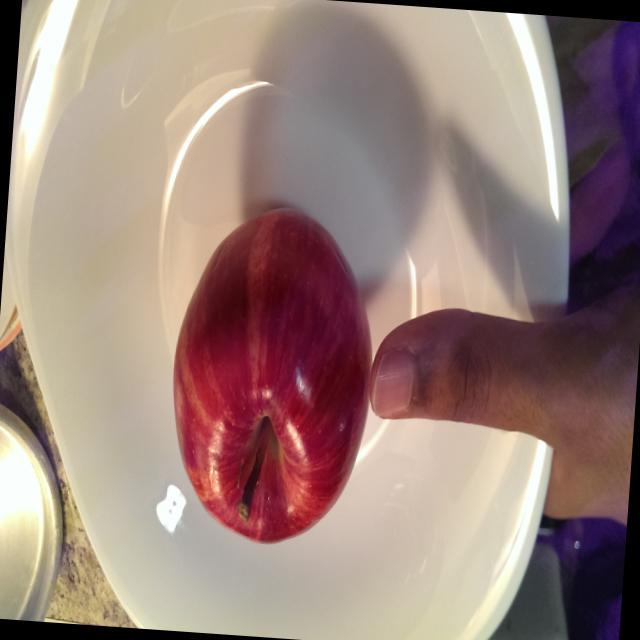Apple: (154, 192, 385, 558)
Finger: (363, 293, 509, 438)
